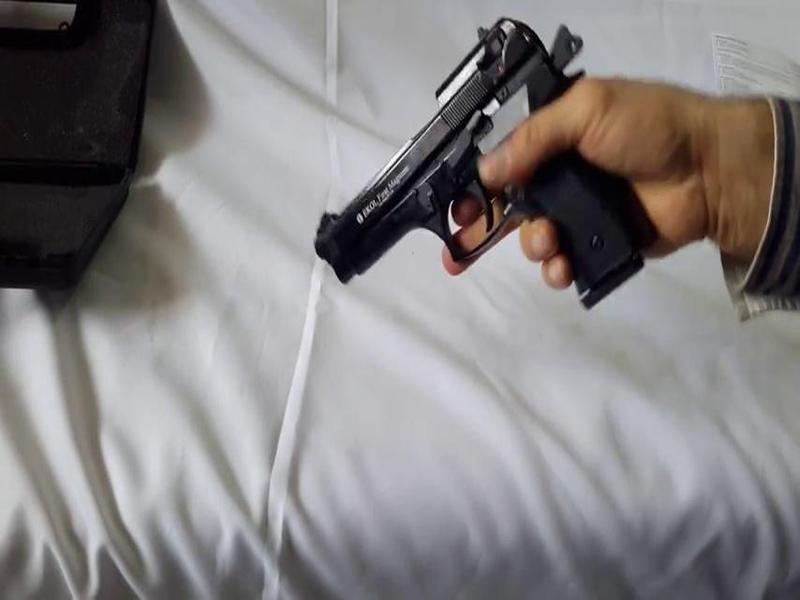Pistola: (280, 22, 663, 344)
